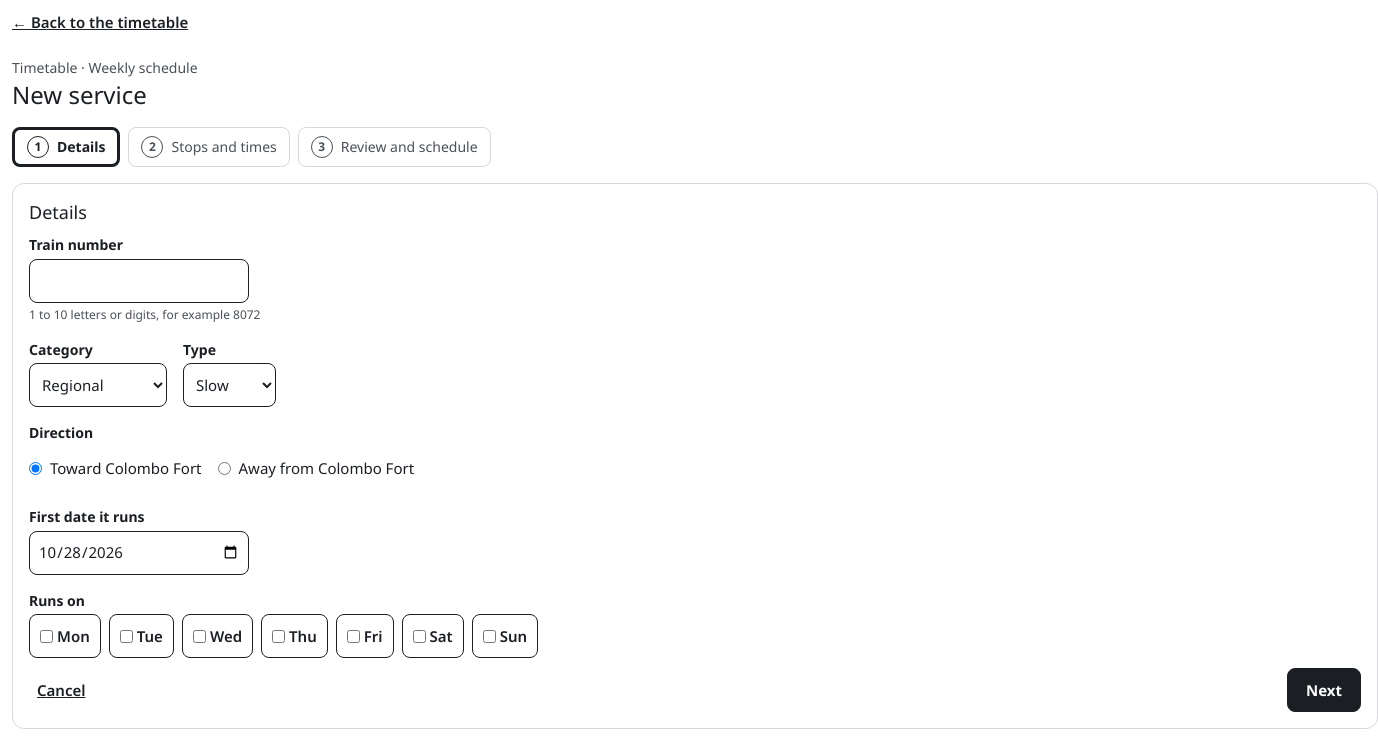
New weekly service (spec 15, W2) › will not leave step 1 without a train number and a day, and says why
Click the button "Next" at (1324, 690), box [1287,668,1361,712]
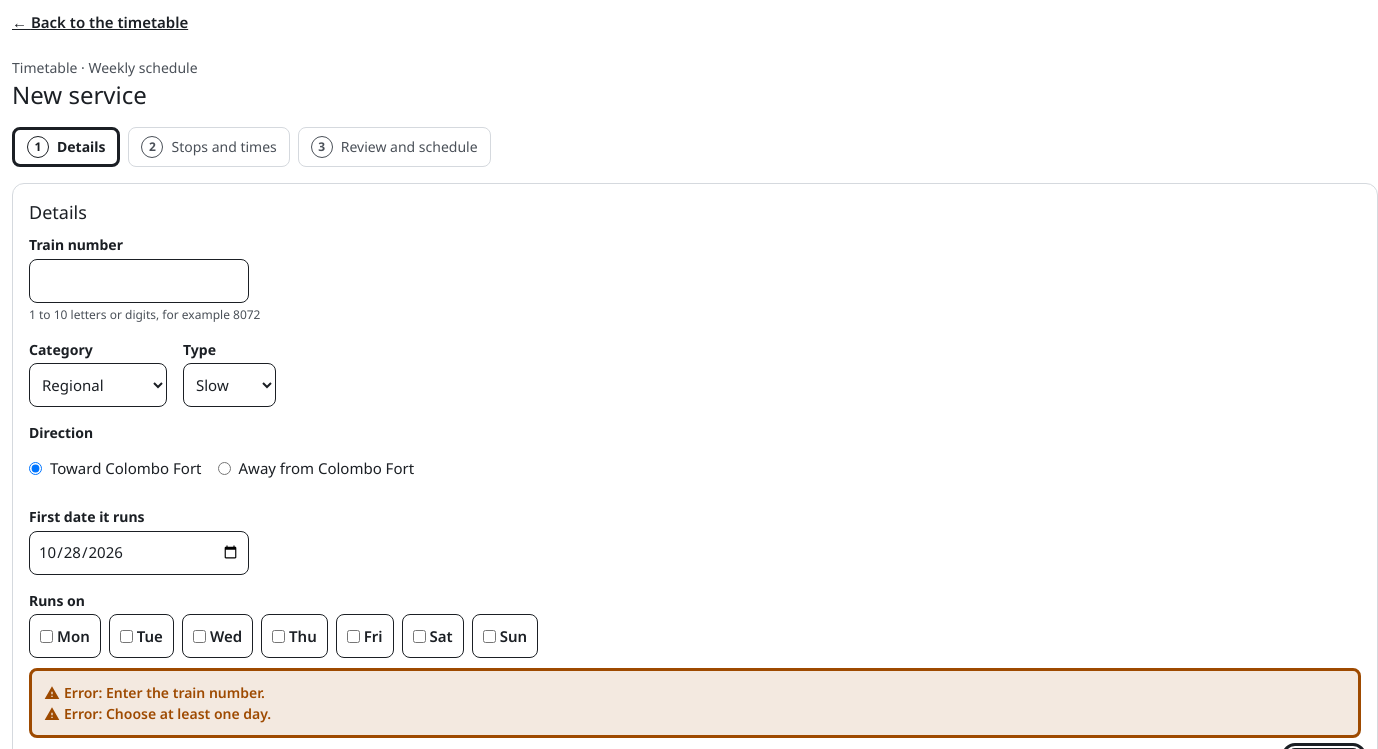
Check: the heading "Details" is shown, box [29,200,87,224]
Check: the list item "Error: Enter the train number." is shown, box [44,683,265,702]
Check: the list item "Error: Choose at least one day." is shown, box [44,704,271,723]
